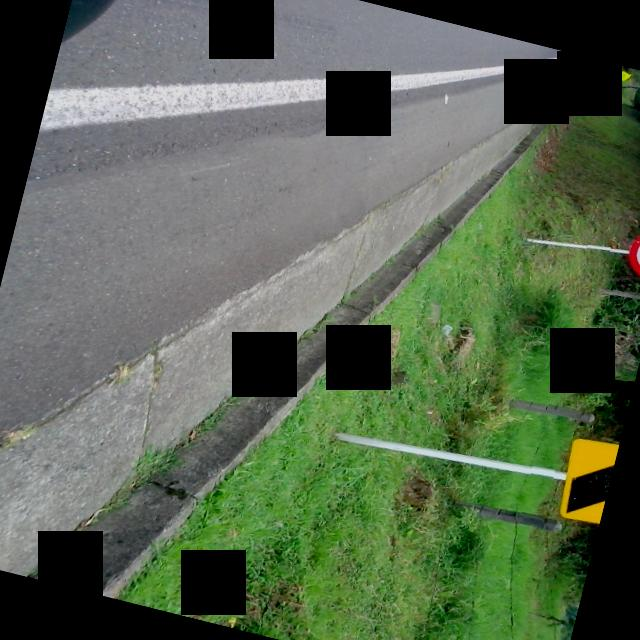DITCH: (0, 0, 640, 640), (0, 0, 629, 640), (0, 0, 598, 640)
